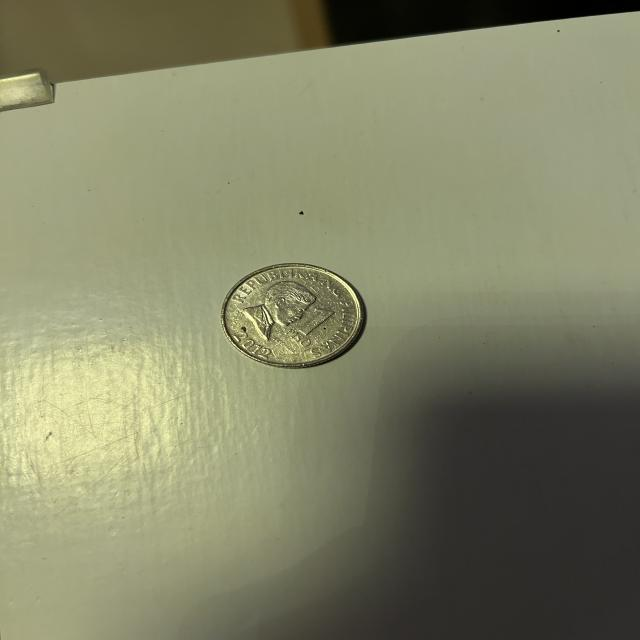1_Old_Front: (288, 302, 332, 344)
